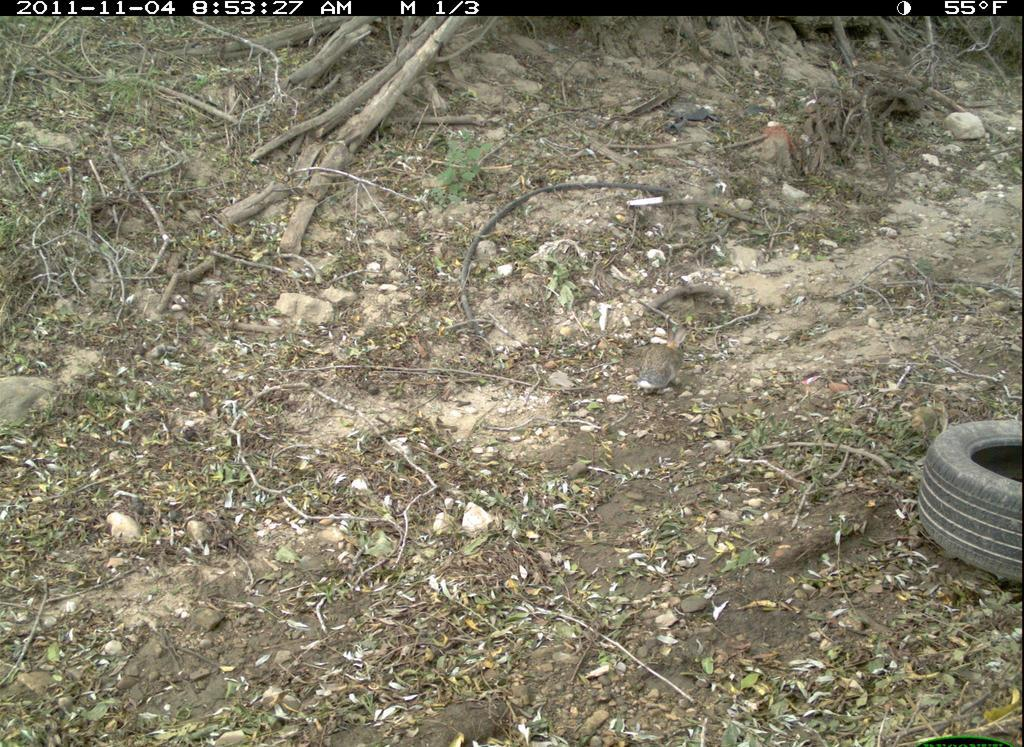rabbit: (636, 322, 697, 401)
